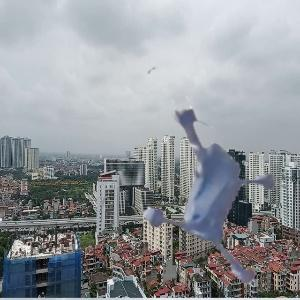drone: (92, 74, 297, 279)
